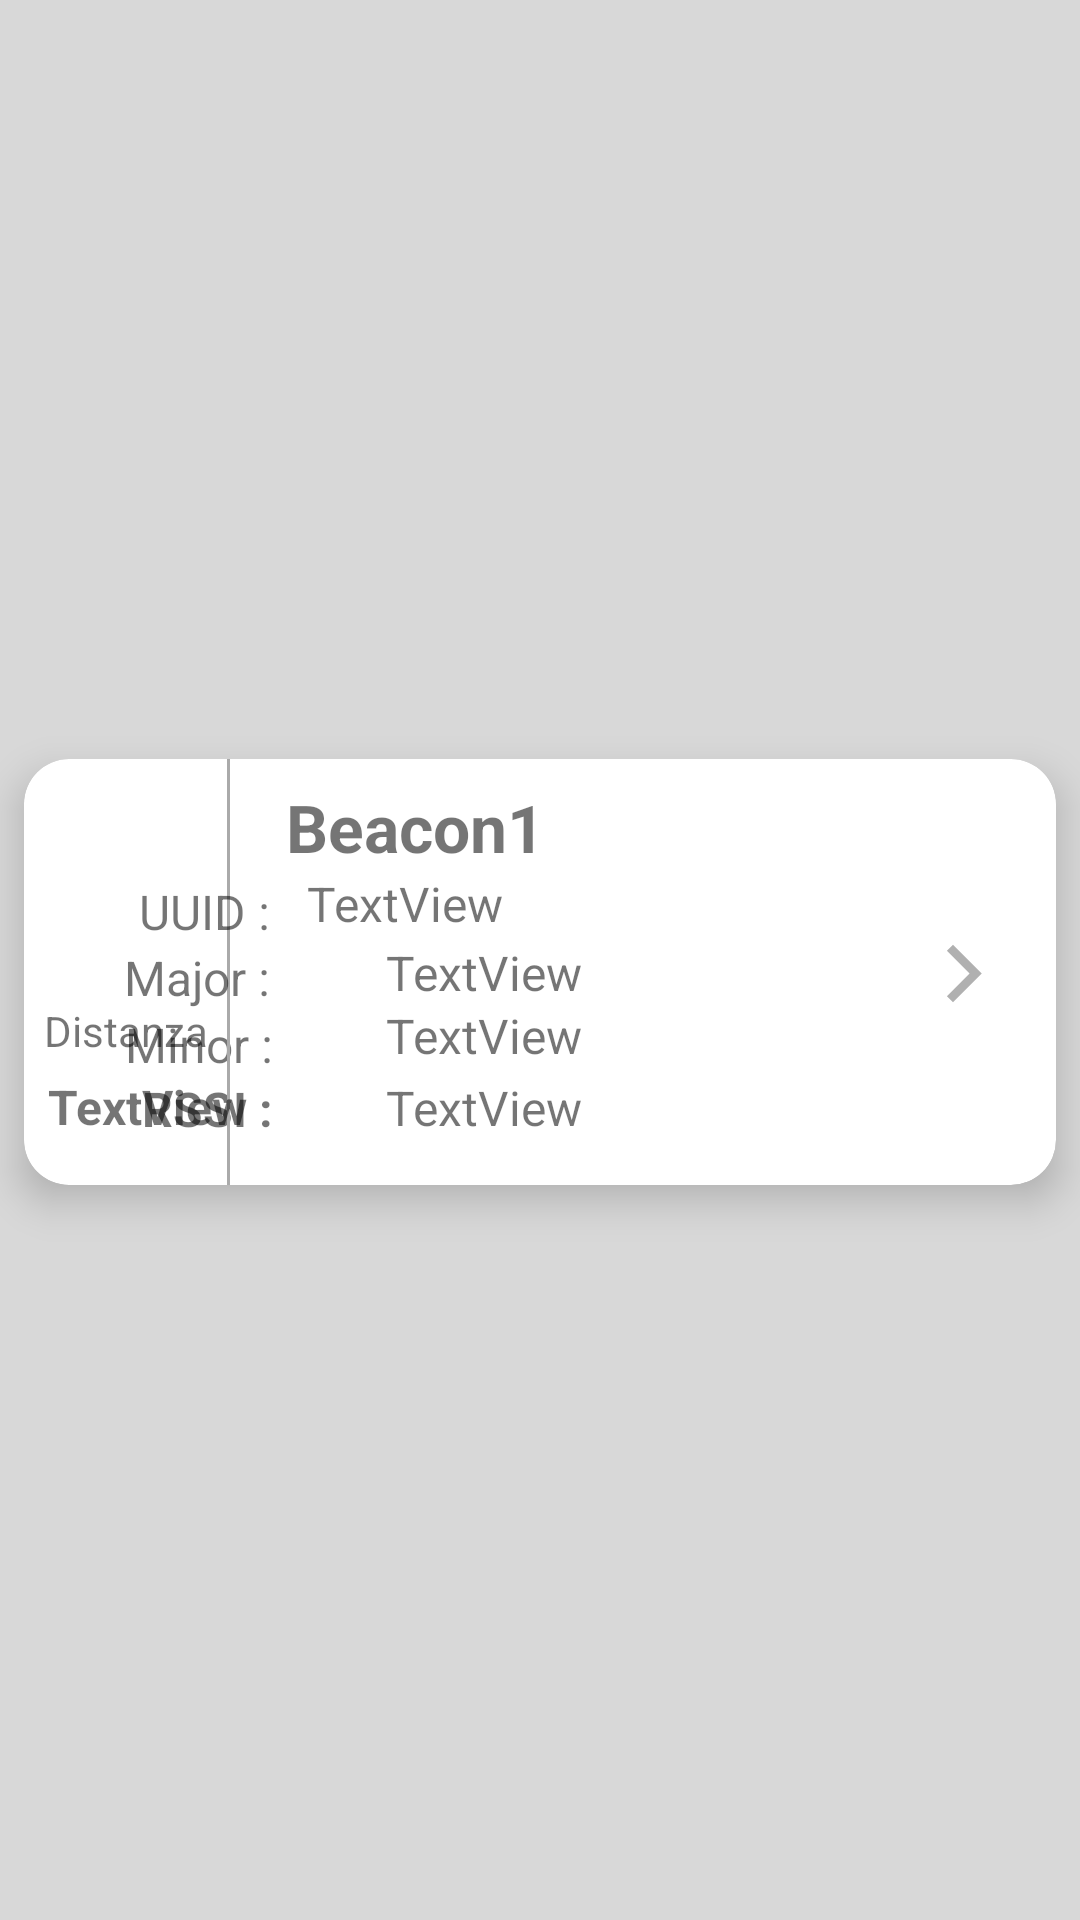

Named icons in this screenshot (1080x1920) and their centers, (x=x, y=y):
arrow forward: (x=964, y=973)
